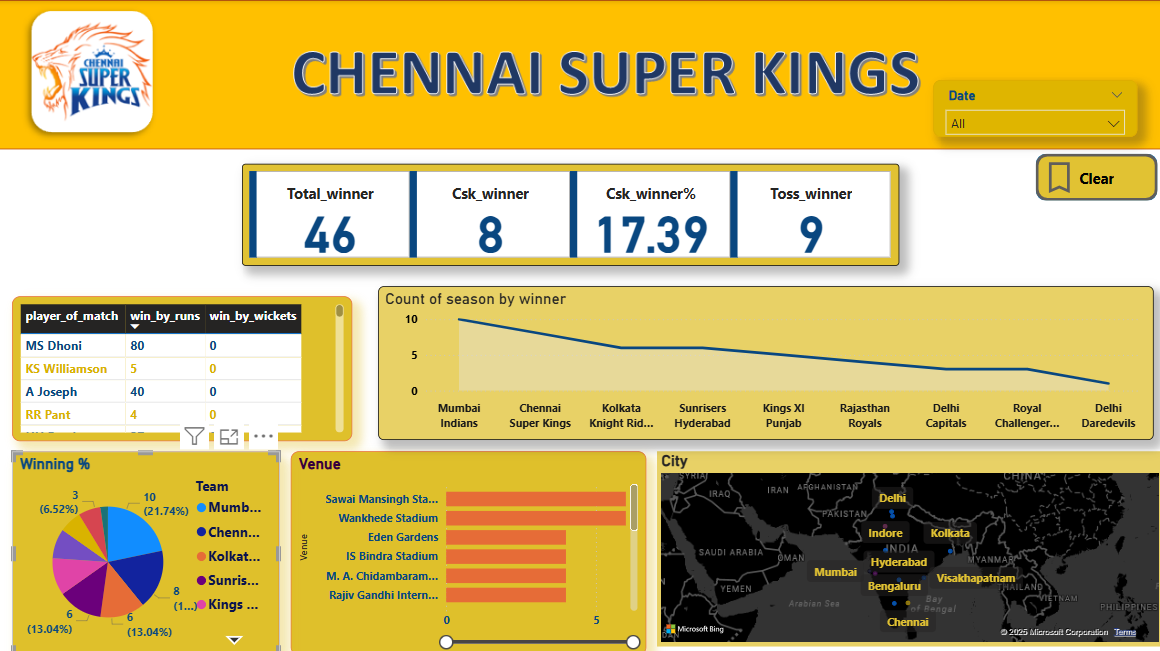

The dashboard page shown, as its layout file describes it:
{"tool":"powerbi","page":{"name":"Page 1","canvas":[1280,720],"ordinal":0},"visuals":[{"type":"slicer","title":"Date","fields":{"Values":["matches.date"]},"box":[1028.1,87.8,224.3,62.7],"z":1000},{"type":"pieChart","title":"Winning %","fields":{"Y":["matches.winner"],"Category":["matches.winner"]},"box":[16.7,496,293.9,224.3],"z":2000},{"type":"tableEx","fields":{"Values":["matches.player_of_match","matches.win_by_runs","matches.win_by_wickets"]},"box":[16.7,324.6,373.4,158.8],"z":6000},{"type":"clusteredBarChart","title":"Venue","fields":{"Category":["matches.venue"],"Y":["matches.winner"]},"box":[321.8,496,390.1,224.3],"z":7000},{"type":"cardVisual","title":"TOTAL WINNER ","fields":{"Data":["matches.total_winner","matches.csk_winner","matches.csk_winner%","matches.toss_winner"]},"box":[268.4,180.3,721.2,111.8],"z":7001},{"type":"map","fields":{"Category":["matches.city"]},"box":[724.4,496,555.9,214.5],"z":7002},{"type":"stackedAreaChart","fields":{"Y":["matches.season"],"Category":["matches.winner"]},"box":[417.9,314.8,851.2,168.6],"z":7003},{"type":"shape","box":[1141,168.6,133.7,51.5],"z":7004},{"type":"actionButton","box":[1141,168.6,133.7,51.5],"z":7005}]}

Visuals, with their boxes in screenshot pixels (x1, y1, x2, y2), scaled from the page's 1280x720 canvas onto the 1160x651 screenshot:
"Date" slicer: bbox=[932, 79, 1135, 136]
"Winning %" pieChart: bbox=[15, 448, 281, 650]
tableEx - matches.player_of_match x matches.win_by_runs: bbox=[15, 293, 354, 437]
"Venue" clusteredBarChart: bbox=[292, 448, 645, 650]
"TOTAL WINNER " cardVisual: bbox=[243, 163, 897, 264]
map - matches.city: bbox=[656, 448, 1159, 642]
stackedAreaChart - matches.season x matches.winner: bbox=[379, 285, 1150, 437]
shape: bbox=[1034, 152, 1155, 199]
actionButton: bbox=[1034, 152, 1155, 199]
